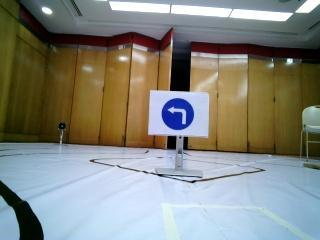left: (152, 91, 202, 131)
